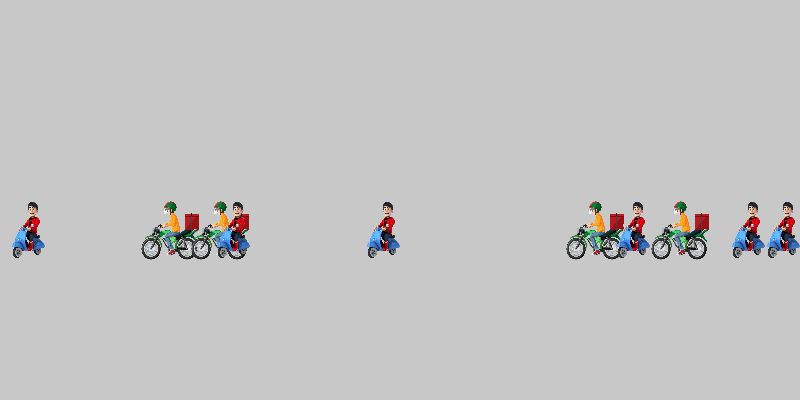helmet: (140, 200, 200, 260), (190, 200, 250, 260), (565, 200, 625, 260), (650, 200, 710, 260)
no_helmet: (0, 200, 60, 260), (205, 200, 265, 260), (355, 200, 415, 260), (605, 200, 665, 260), (720, 200, 780, 260), (755, 200, 800, 260)
